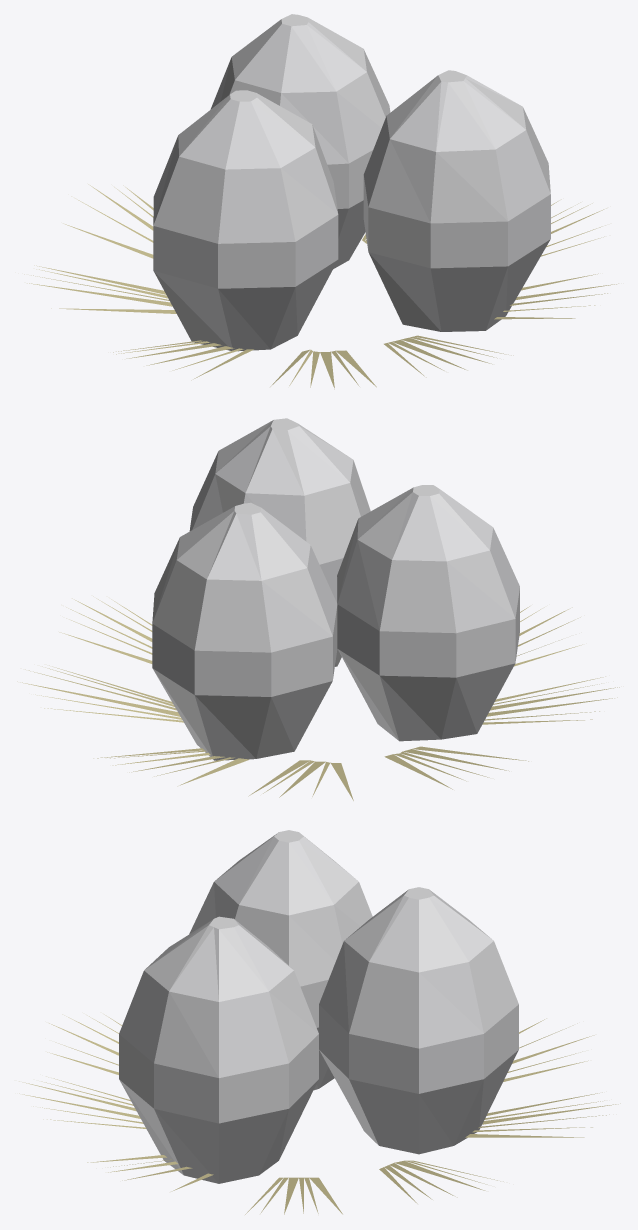
The model's file is obj_eggs_0.obj.
The picture shows the model from 3 angles, top to bottom: view 1: azimuth 30°, elevation 25°; view 2: azimuth 150°, elevation 25°; view 3: azimuth 270°, elevation 25°; orthographic projection.
Bounding box in the file's own units: 0.9531 × 0.4062 × 0.9531.
